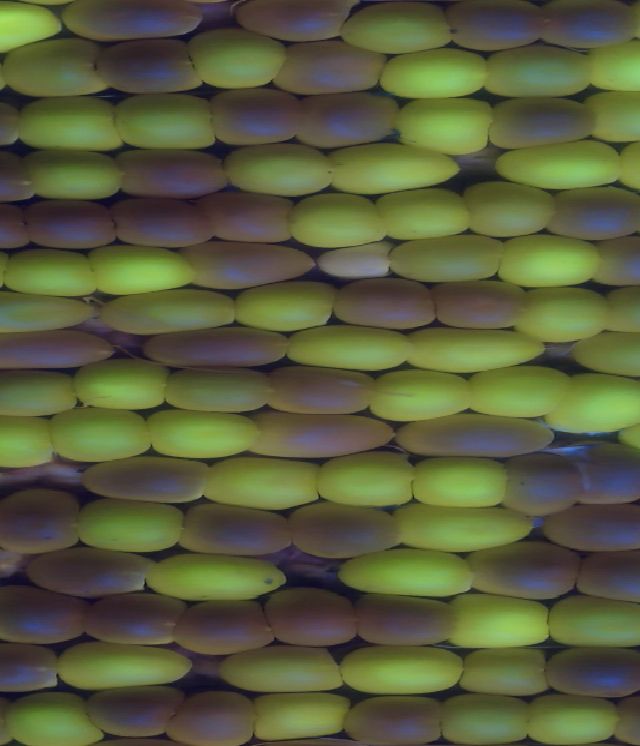fluorescent: (338, 547, 477, 597), (203, 457, 325, 512), (329, 141, 458, 192), (58, 644, 195, 691), (396, 502, 538, 547), (226, 142, 338, 199), (339, 641, 468, 689), (148, 552, 287, 596), (448, 590, 550, 649), (94, 290, 240, 331), (3, 39, 106, 97), (405, 325, 547, 367), (218, 646, 347, 692), (2, 687, 102, 746), (48, 408, 157, 462), (117, 92, 215, 152), (18, 96, 124, 151), (483, 44, 591, 97), (382, 47, 488, 100), (285, 325, 412, 369), (187, 28, 283, 86), (315, 454, 418, 508), (493, 143, 623, 185), (439, 690, 535, 746), (79, 500, 182, 552), (499, 237, 600, 290), (145, 410, 259, 456), (395, 97, 490, 152), (464, 181, 556, 237), (236, 277, 334, 329), (551, 376, 640, 433), (373, 372, 477, 420), (391, 236, 504, 280), (470, 366, 565, 418), (91, 247, 193, 295), (165, 366, 268, 413), (413, 457, 510, 506), (28, 146, 122, 196), (549, 597, 640, 648), (523, 695, 618, 743), (4, 249, 97, 298), (454, 647, 550, 694), (521, 288, 609, 339), (288, 191, 378, 240), (379, 189, 470, 237), (77, 360, 164, 410), (256, 693, 347, 737), (0, 291, 91, 332), (0, 370, 76, 411), (0, 4, 61, 52), (588, 37, 640, 92), (0, 419, 58, 467), (576, 335, 640, 376), (592, 88, 640, 142), (603, 284, 640, 334)
nonfluorescent: (248, 412, 398, 458), (181, 502, 293, 560), (468, 543, 578, 600), (398, 416, 554, 456), (186, 242, 317, 289), (289, 502, 399, 557), (143, 327, 287, 369), (98, 36, 202, 93), (84, 458, 204, 506), (298, 90, 399, 147), (489, 94, 599, 146), (30, 550, 153, 596), (273, 41, 384, 91), (82, 591, 186, 644), (355, 595, 459, 647), (113, 195, 210, 250), (343, 693, 446, 744), (63, 2, 204, 39), (116, 151, 225, 198), (175, 602, 277, 652), (85, 684, 177, 739), (539, 1, 638, 52), (333, 278, 436, 327), (209, 87, 300, 142), (268, 589, 356, 645), (442, 3, 541, 52), (205, 192, 296, 245), (171, 692, 260, 746), (0, 493, 80, 552), (234, 1, 354, 40), (505, 454, 583, 514), (547, 500, 640, 550), (547, 647, 640, 697), (0, 587, 83, 643), (551, 187, 640, 239), (268, 368, 371, 412), (23, 201, 113, 251), (436, 283, 533, 328), (0, 332, 113, 369), (576, 444, 640, 502), (574, 551, 640, 603), (0, 643, 58, 692), (595, 237, 640, 283), (0, 148, 36, 202), (0, 202, 30, 247)
